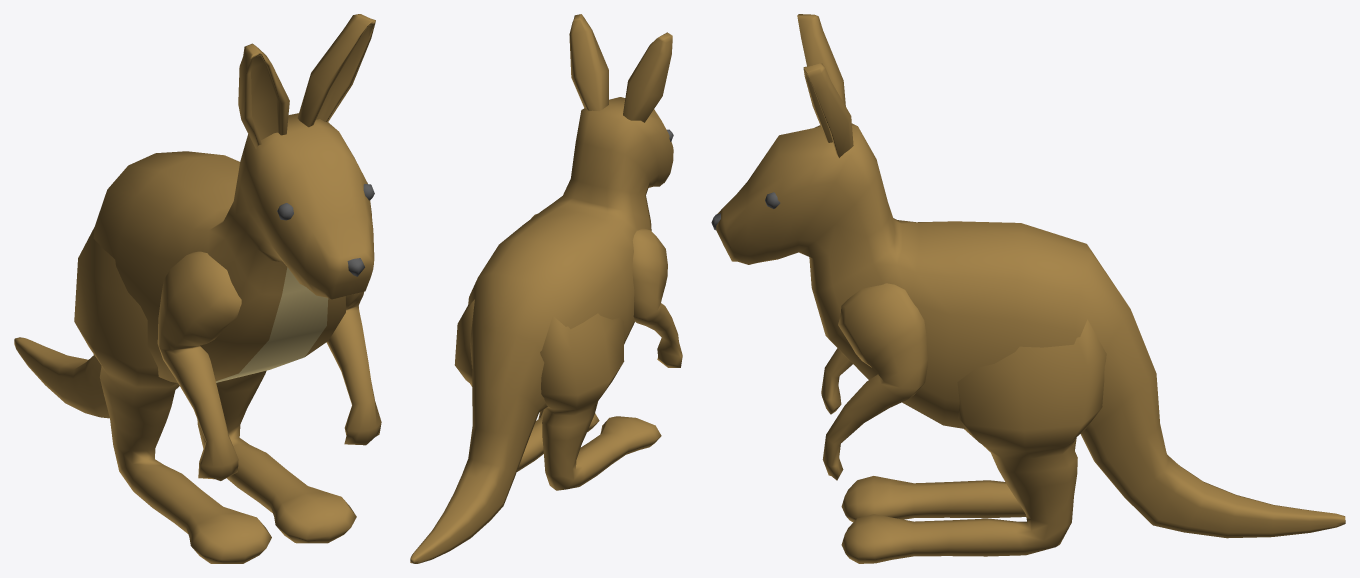
File: kangerooo.fbx
3 views of the same model, side by side, from view 1: azimuth 30°, elevation 25°; view 2: azimuth 150°, elevation 25°; view 3: azimuth 270°, elevation 25° (orthographic). The views are drawn at different scales.
Parts seen in each view (by area): view 1: pCube32; view 2: pCube32; view 3: pCube32.
Part boxes in pixels (<box>): pCube32: <box>14,14,381,563</box>; pCube32: <box>410,14,682,563</box>; pCube32: <box>711,14,1345,563</box>.
Bounding box in the file's own units: 2.97 × 7.78 × 8.96.
